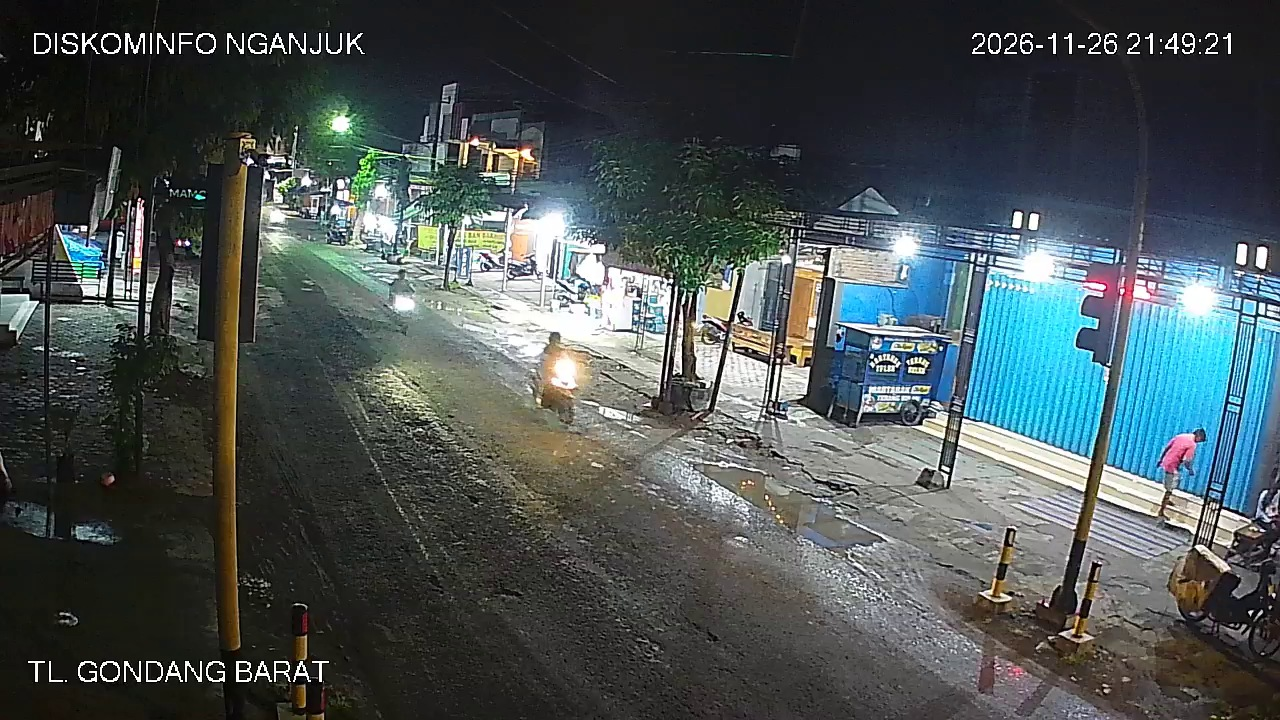Gerobak: (827, 318, 960, 428)
